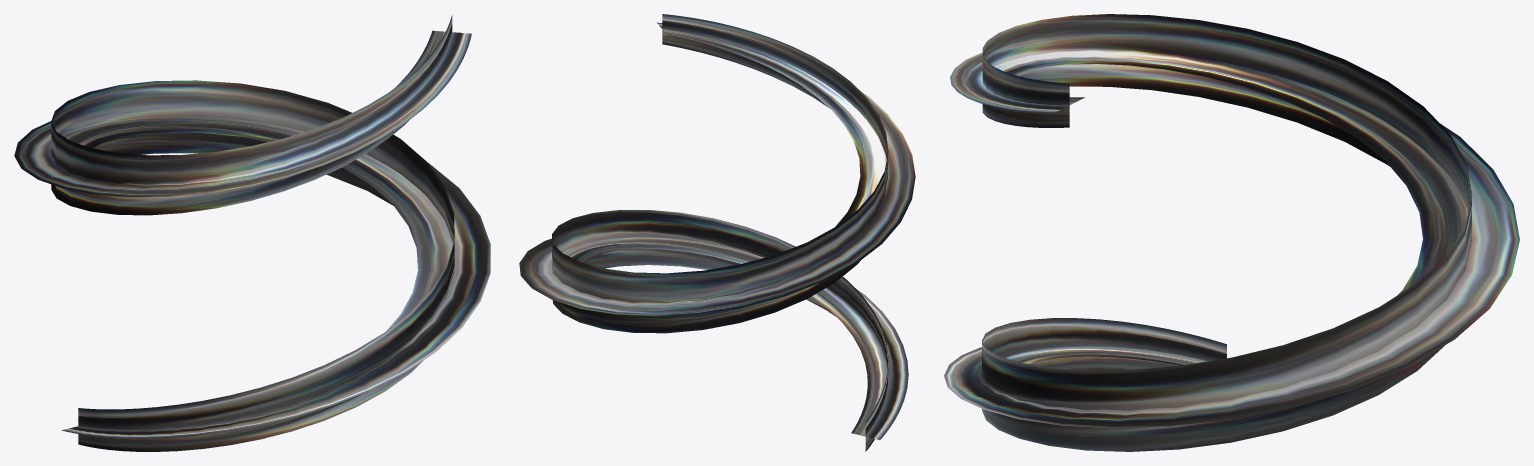
Rendered from Effect_Mesh_Spiral1_20251116.fbx.
3 views of the same model, side by side, from view 1: azimuth 30°, elevation 25°; view 2: azimuth 150°, elevation 25°; view 3: azimuth 270°, elevation 25° (orthographic). The views are drawn at different scales.
Visible parts, largest first — view 1: Mesh_Spiral1; view 2: Mesh_Spiral1; view 3: Mesh_Spiral1.
Boxes of the visible parts, x1=… form: Mesh_Spiral1: x1=14, y1=15, x2=490, y2=451; Mesh_Spiral1: x1=519, y1=14, x2=915, y2=451; Mesh_Spiral1: x1=944, y1=14, x2=1519, y2=451.
Size of the model in its own units: 472 by 440 by 470.
